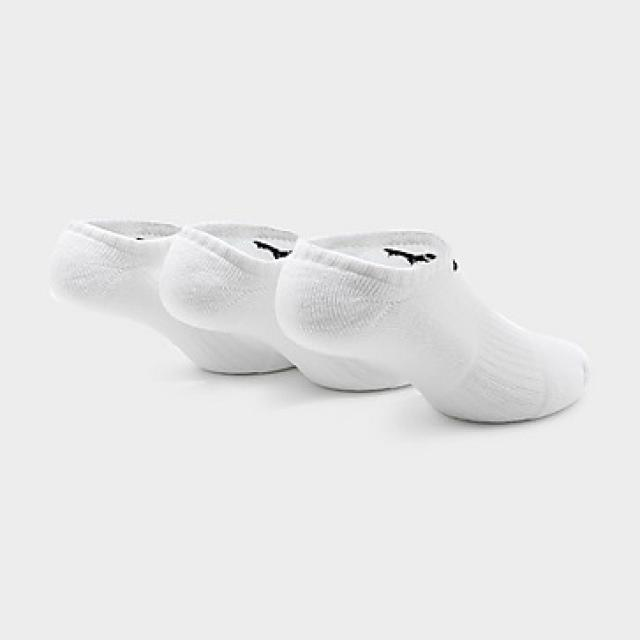sock: (271, 228, 589, 423), (48, 217, 296, 375)
